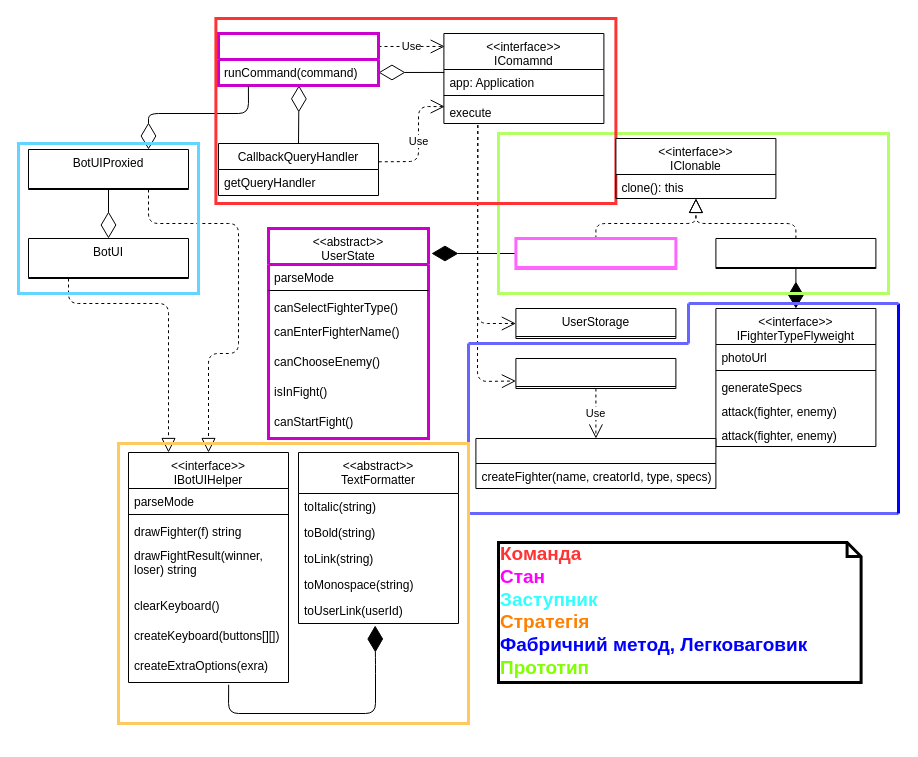
The diagram is 918 pixels wide and 757 high, and some of its shapes have lost their labels. Here are the shapes that lost their labels. From the top down, the box of each, then its label:
(216, 32, 380, 86): Application
(514, 236, 677, 270): User
(715, 238, 876, 268): Fighter
(515, 358, 676, 388): FighterStorage
(475, 438, 716, 488): FighterFactory
